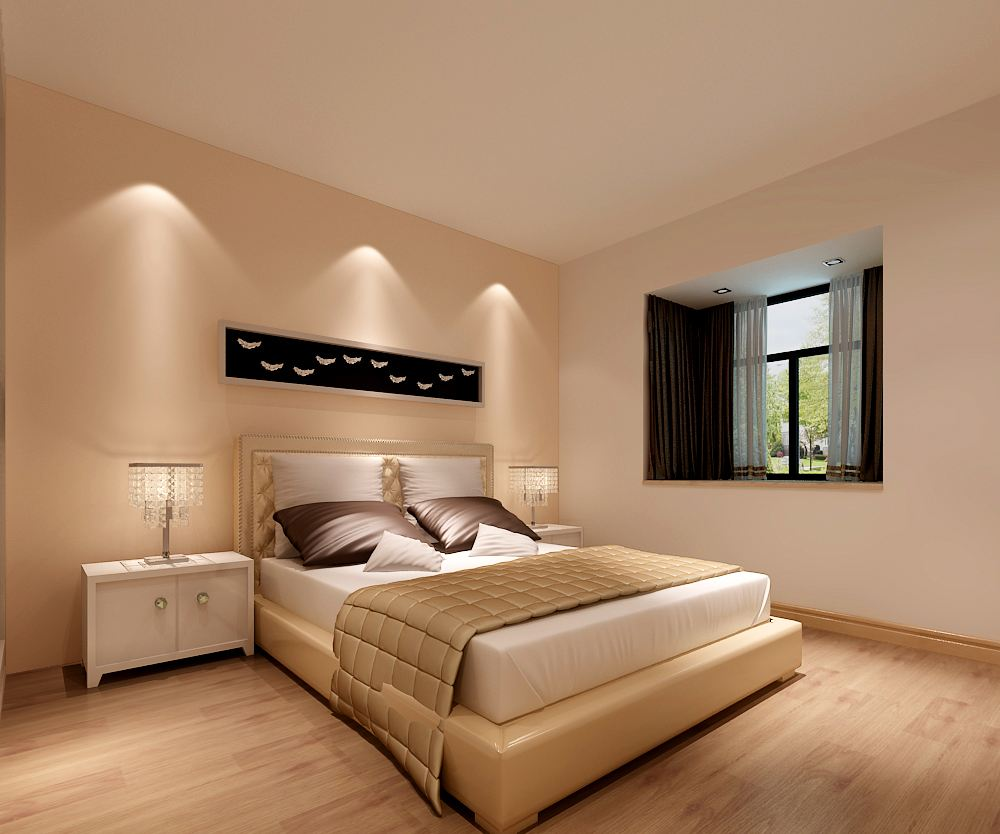床: (251, 526, 798, 805)
枕头: (260, 453, 544, 571)
灯: (124, 463, 199, 567), (509, 468, 560, 538)
